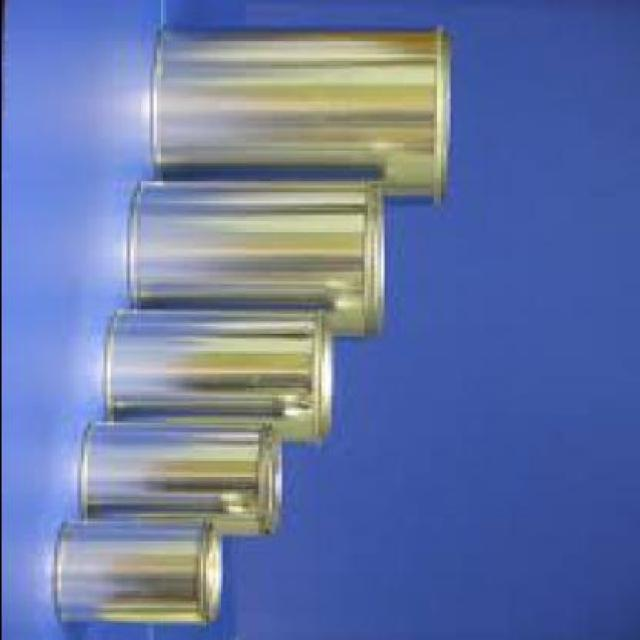METAL: (152, 22, 452, 195), (128, 175, 387, 331), (106, 305, 337, 437), (82, 413, 284, 532), (52, 516, 222, 621)
